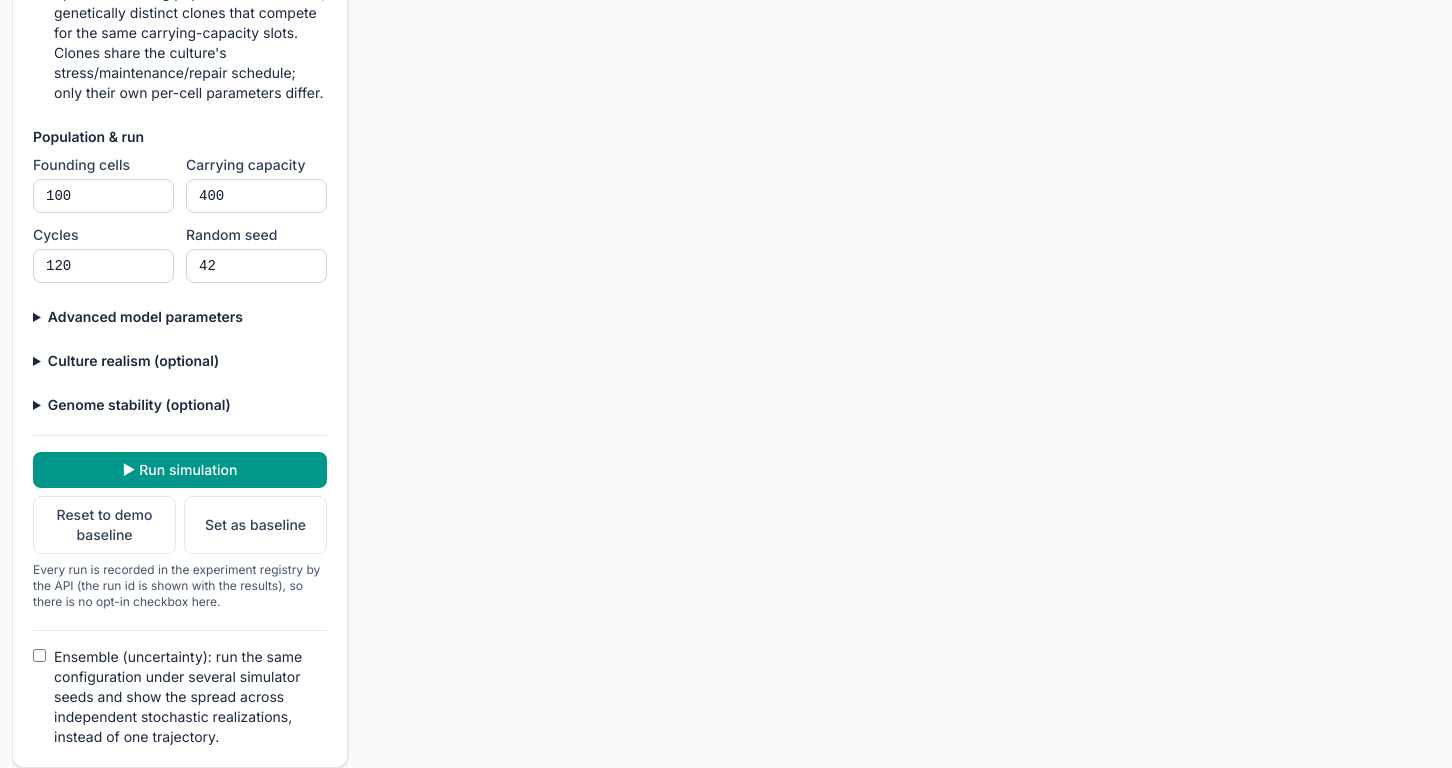
Test case: Simulate page › does not crash and still shows the disclaimer when biological_age is absent on an otherwise-invalid run
(page scrolled)
Click the button "▶ Run simulation". click: [180, 470]
box: [33, 452, 327, 488]
(page scrolled)
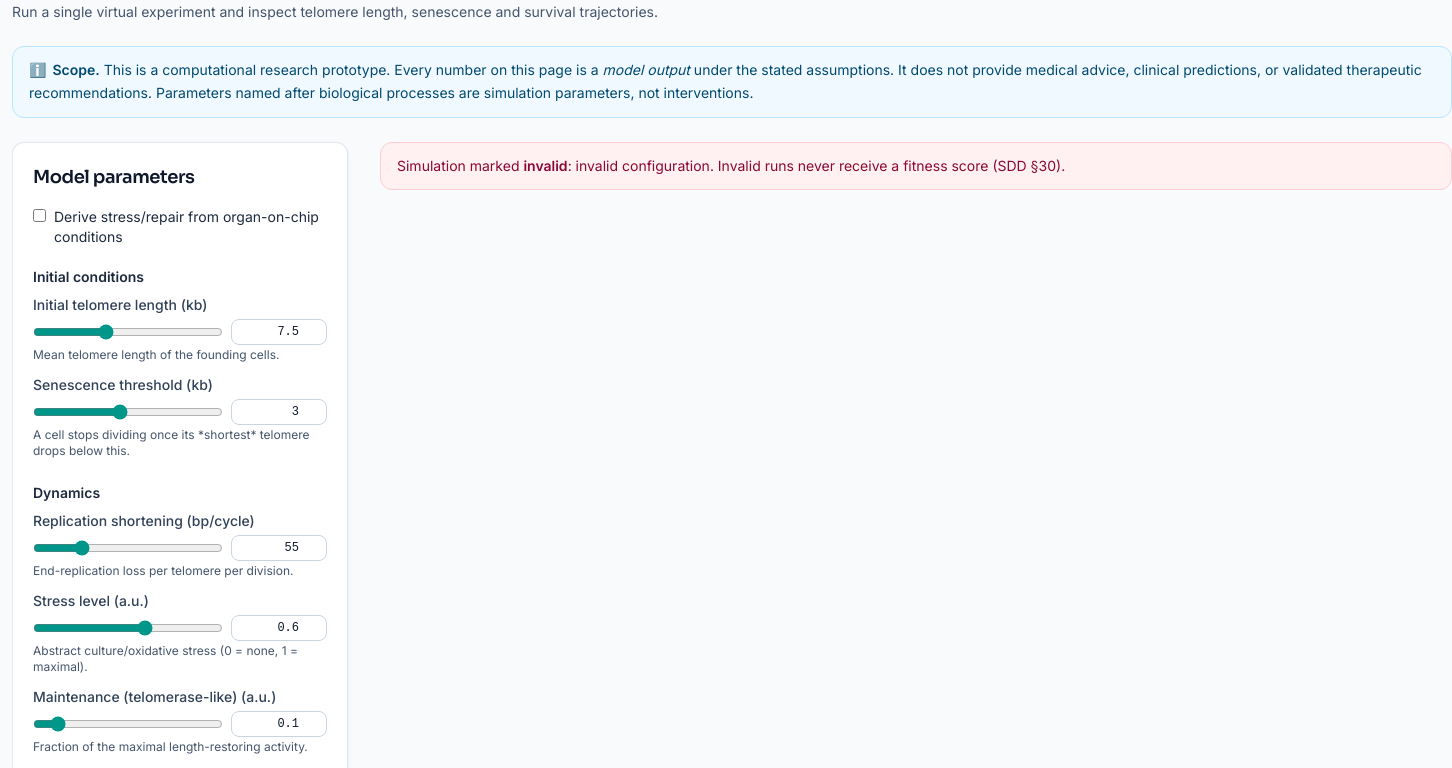
Check: the message shows "invalid", box [523, 156, 568, 174]
